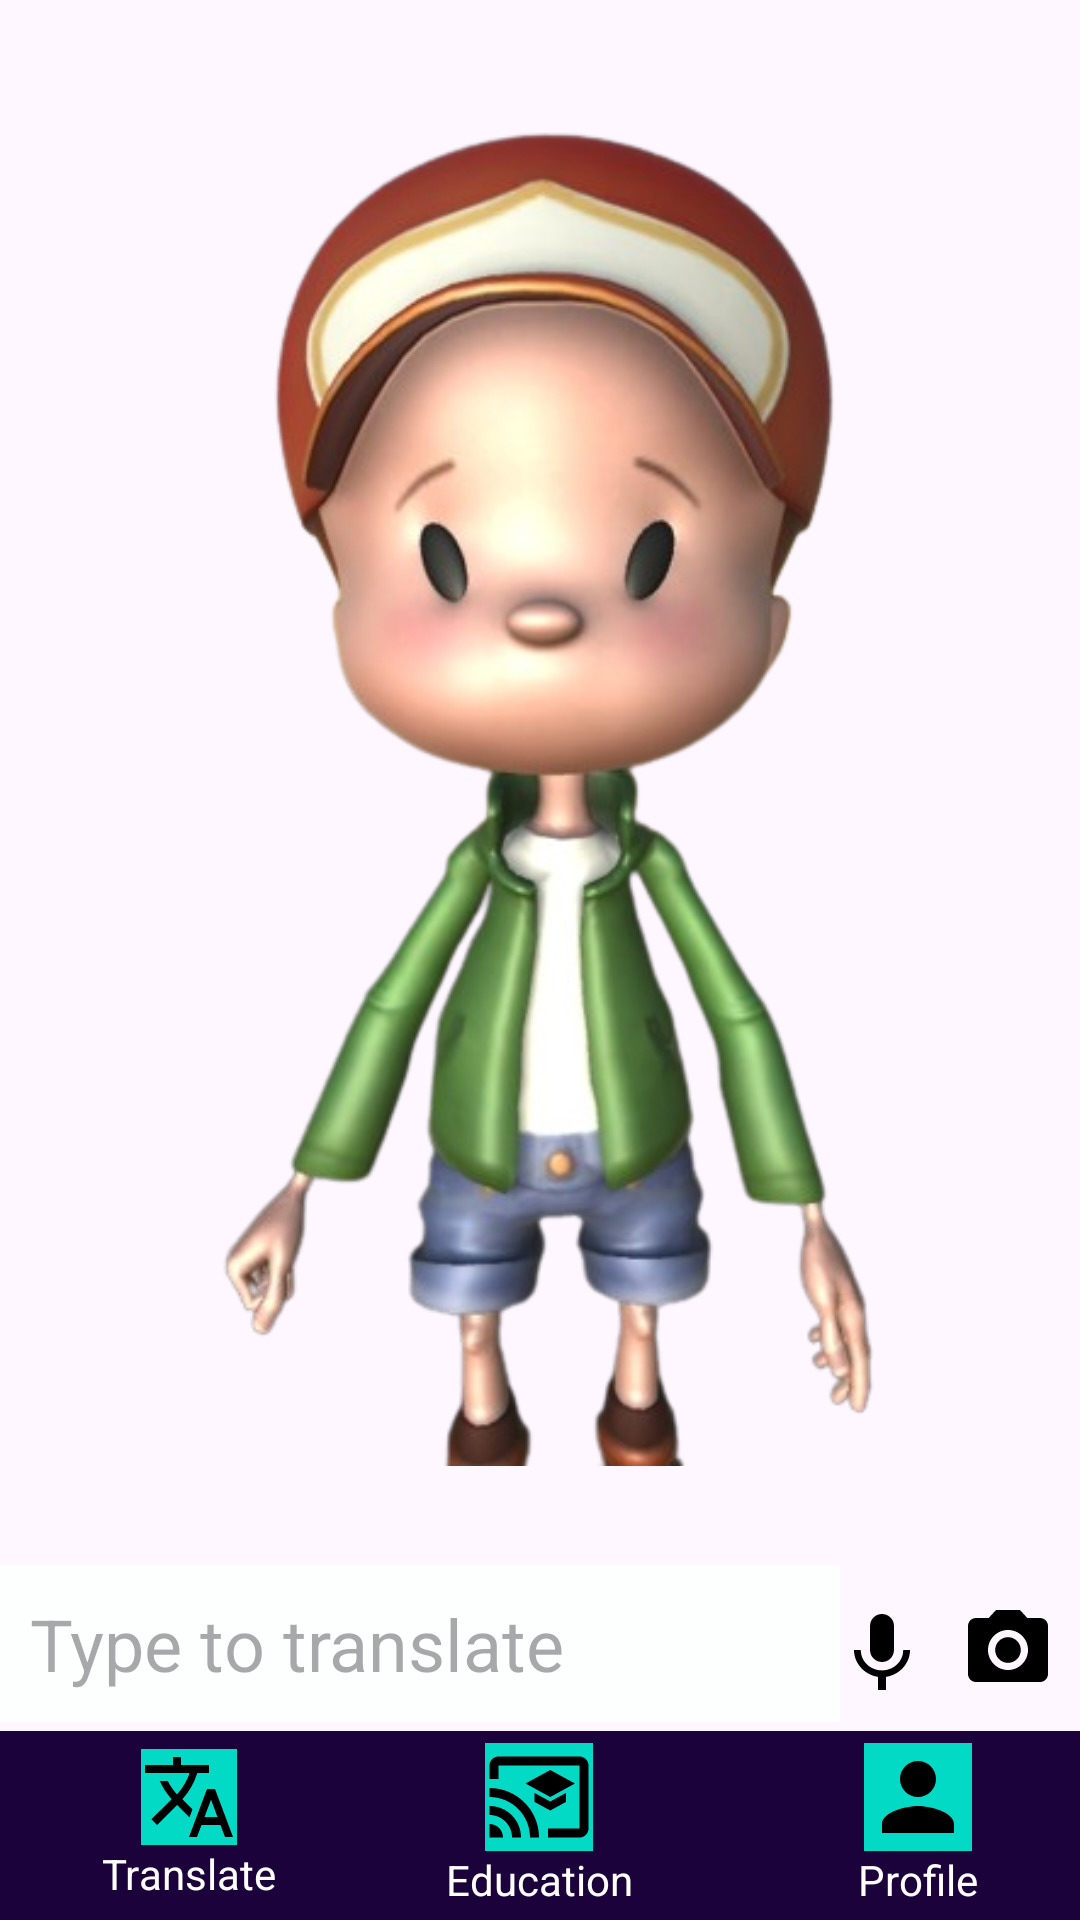

Icons on this 1080w x 1920h Android screen, each with its box as (x1, y1, x2, y2):
keyboard voice: (854, 1614, 910, 1690)
person: (864, 1743, 972, 1851)
photo camera: (968, 1610, 1048, 1682)
